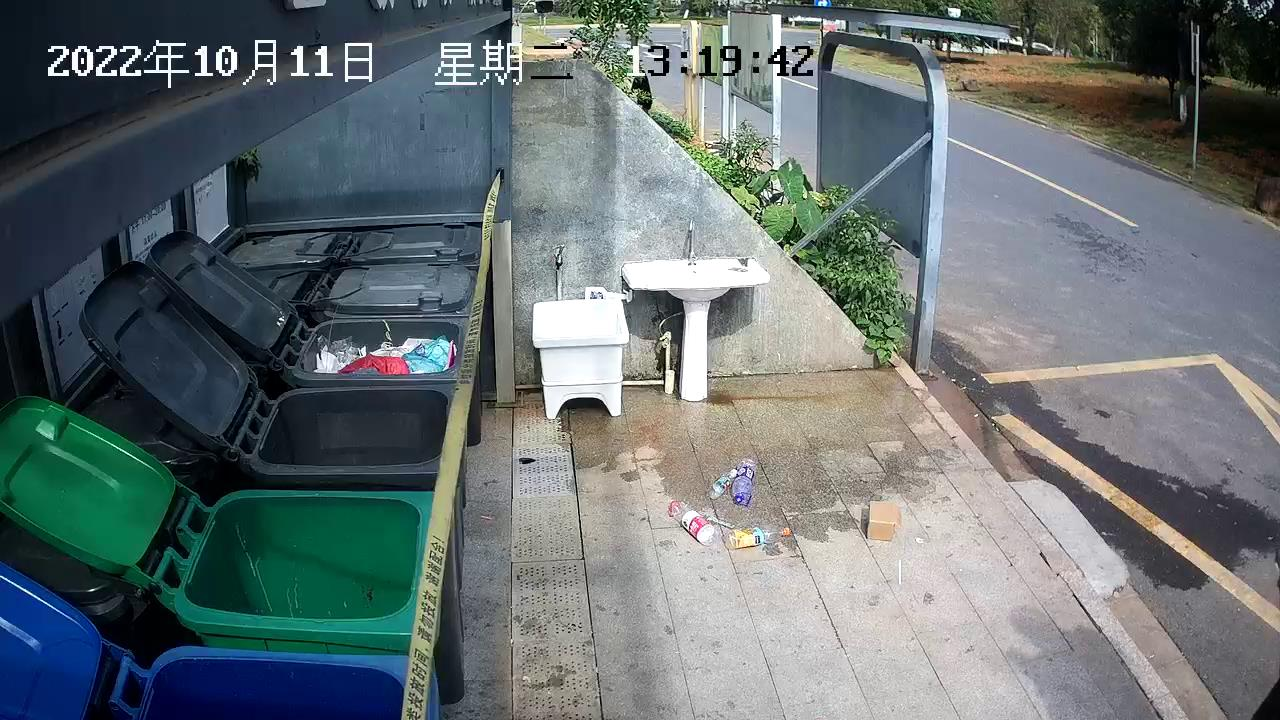suliaozhipin: (663, 495, 717, 547), (722, 522, 798, 555), (727, 456, 760, 507), (707, 467, 739, 496)
zhizhipin: (863, 497, 907, 547)
